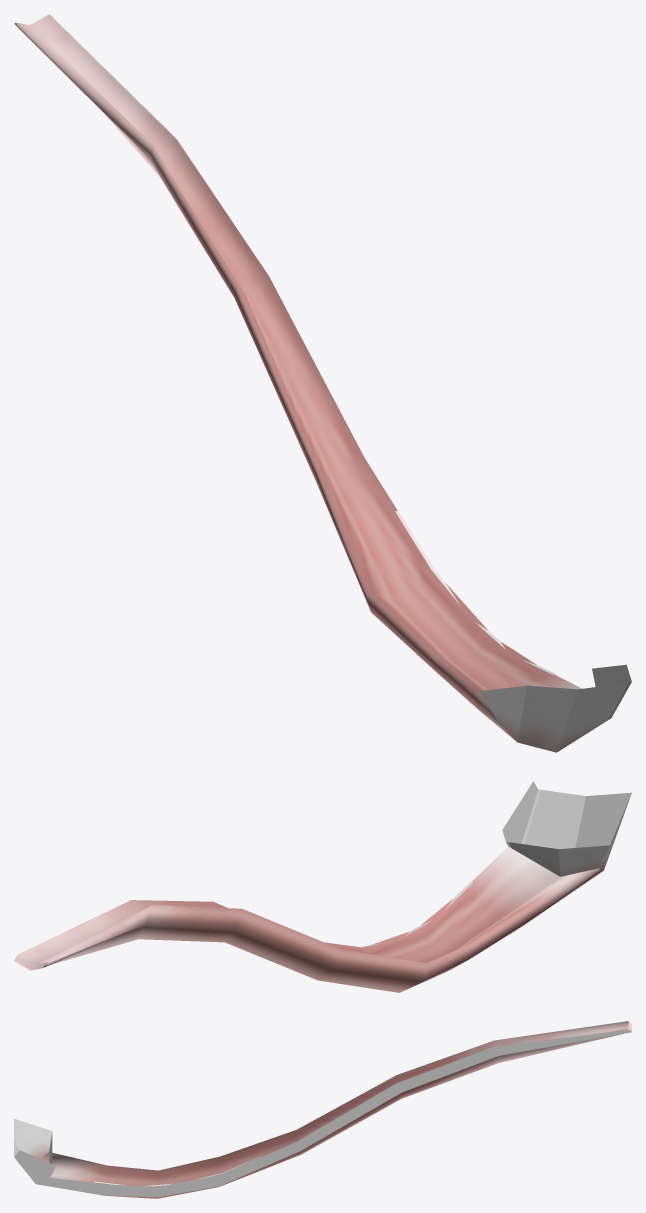
Rendered from Músculo Recto Inferior.FBX.
The picture shows the model from 3 angles, top to bottom: view 1: azimuth 30°, elevation 25°; view 2: azimuth 150°, elevation 25°; view 3: azimuth 270°, elevation 25°; orthographic projection. The views are drawn at different scales.
Parts seen in each view (by area): view 1: sclera right; view 2: sclera right; view 3: sclera right.
Part boxes in pixels (x1,y1,x2,y2): sclera right: (14,14,631,752); sclera right: (14,781,631,992); sclera right: (14,1021,631,1198).
Size of the model in its own units: 0.1395 by 0.3862 by 1.22.
1 material, 1 textured.
